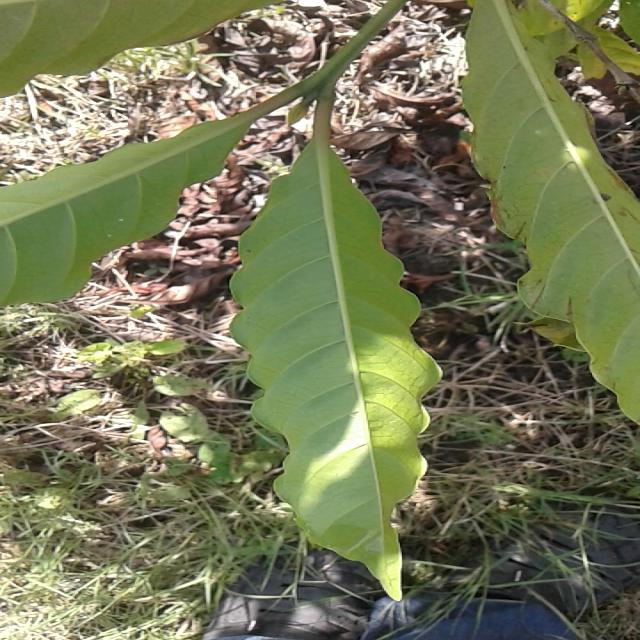Sanas: (228, 100, 442, 604)
